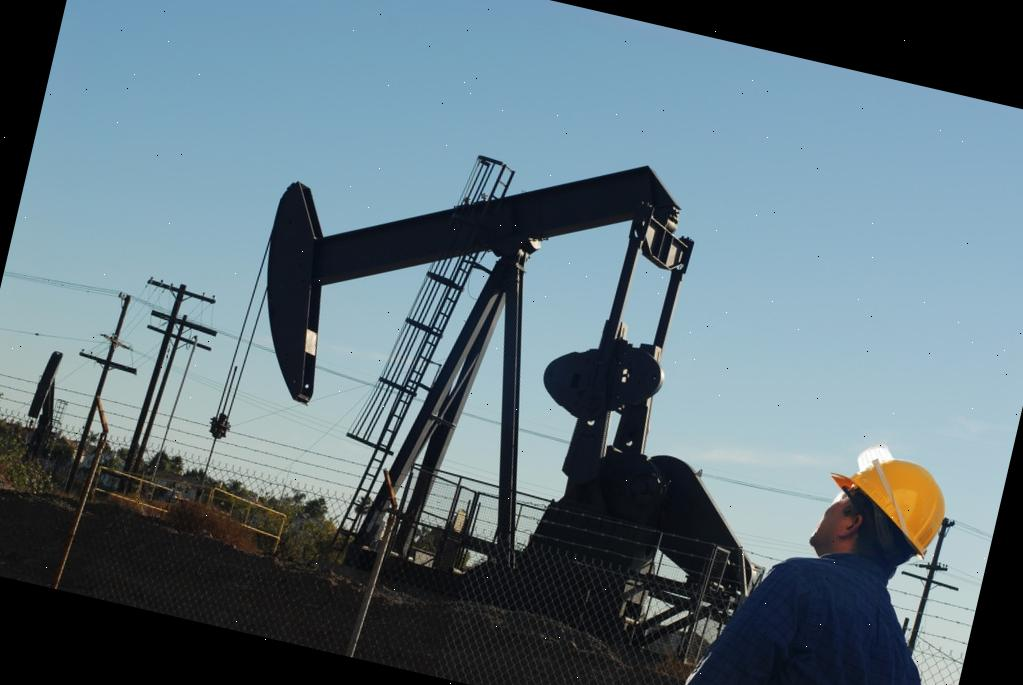helmet: (811, 434, 966, 560)
wear: (679, 534, 945, 685)
